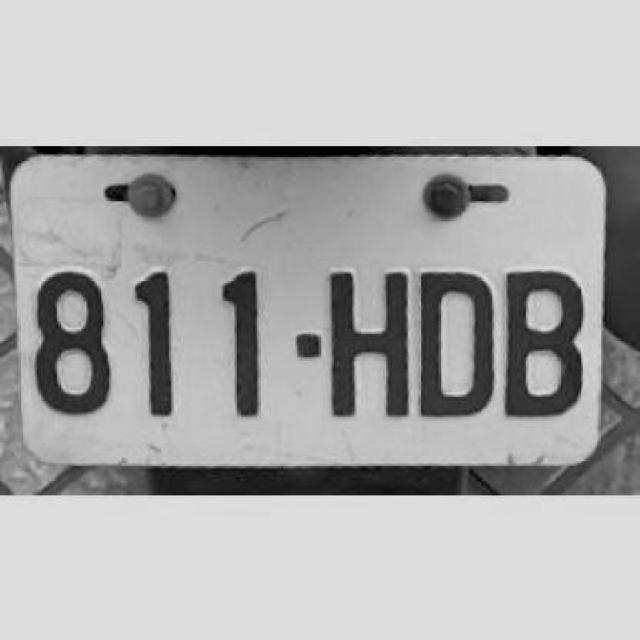-: (294, 331, 320, 357)
1: (132, 266, 176, 417), (218, 266, 262, 417)
8: (31, 268, 111, 417)
B: (504, 266, 584, 420)
D: (418, 266, 496, 417)
H: (329, 267, 411, 418)
